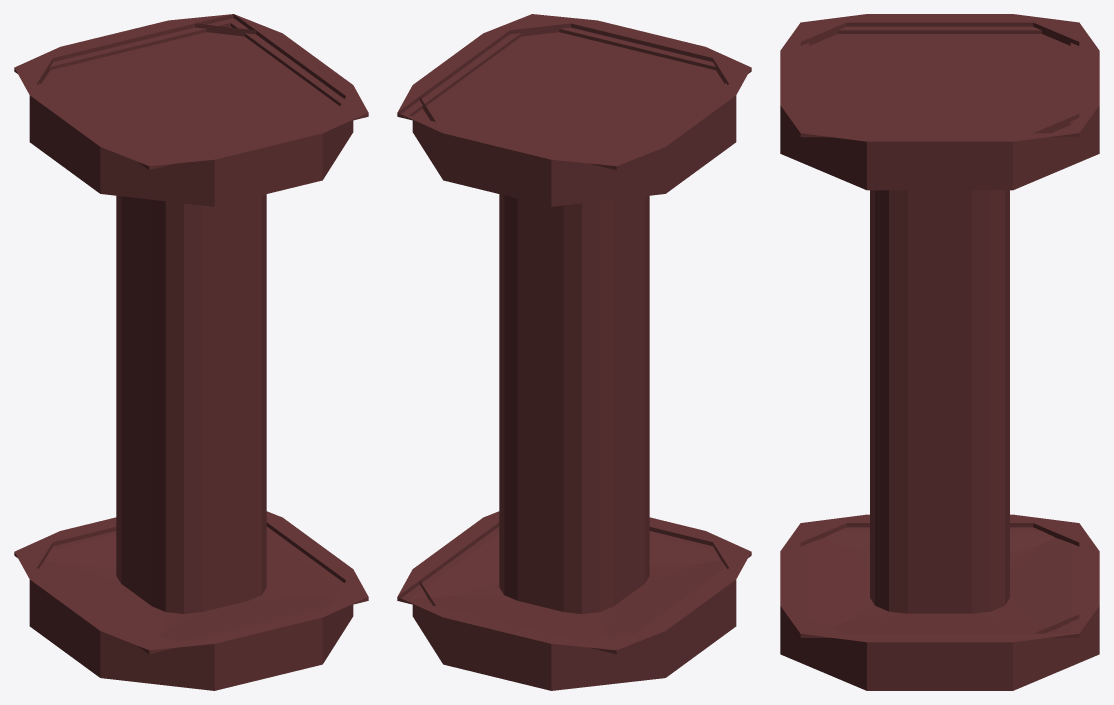
The model's file is courumn.fbx.
3 renders of one model, left to right at view 1: azimuth 30°, elevation 25°; view 2: azimuth 150°, elevation 25°; view 3: azimuth 270°, elevation 25°, orthographic. The views are drawn at different scales.
Parts seen in each view (by area): view 1: Cube.001, Cube; view 2: Cube.001, Cube; view 3: Cube.001, Cube.
Part boxes in pixels (bbox=[...]): Cube.001: bbox=[14, 194, 368, 690]; Cube: bbox=[14, 14, 368, 206]; Cube.001: bbox=[397, 194, 751, 690]; Cube: bbox=[397, 14, 751, 206]; Cube.001: bbox=[780, 190, 1099, 690]; Cube: bbox=[780, 14, 1099, 190].
Size of the model in its own units: 194 by 389 by 205.
